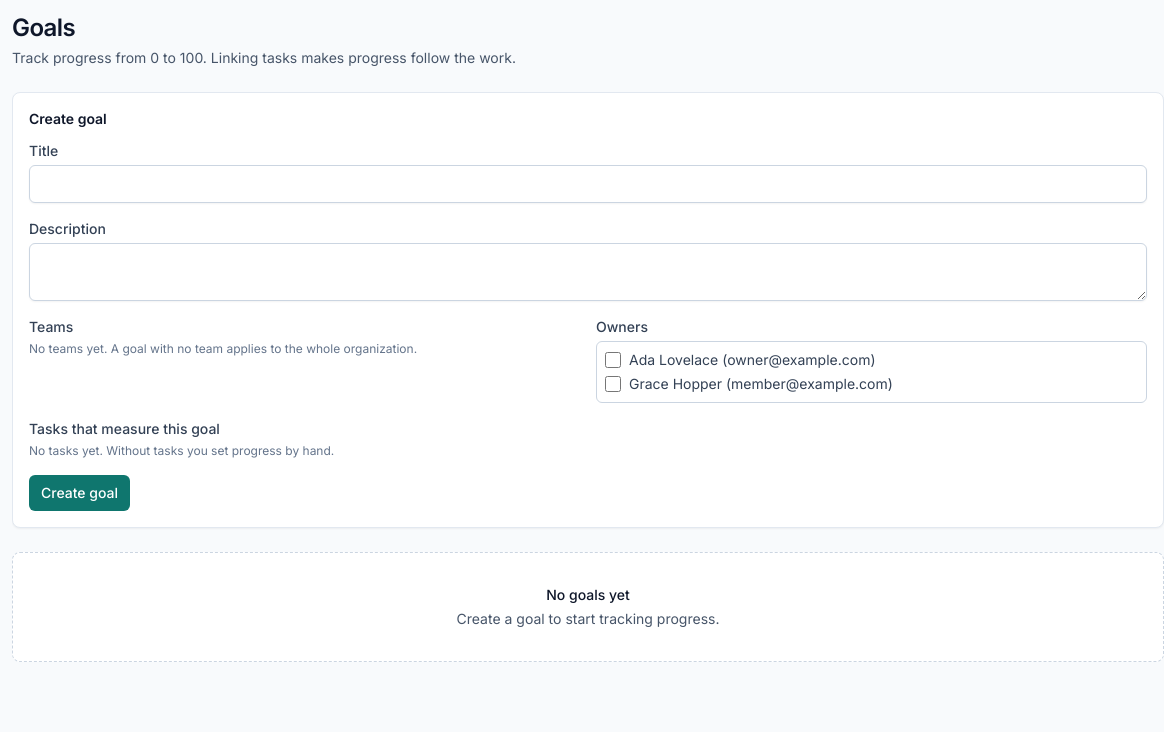
Test: GoalsPage › shows an empty state and requires a title
Check: the text "No goals yet" is shown, box [546,586,630,603]
Step 1. Click the button "Create goal" → coordinates (80, 493), box [29,475,130,511]
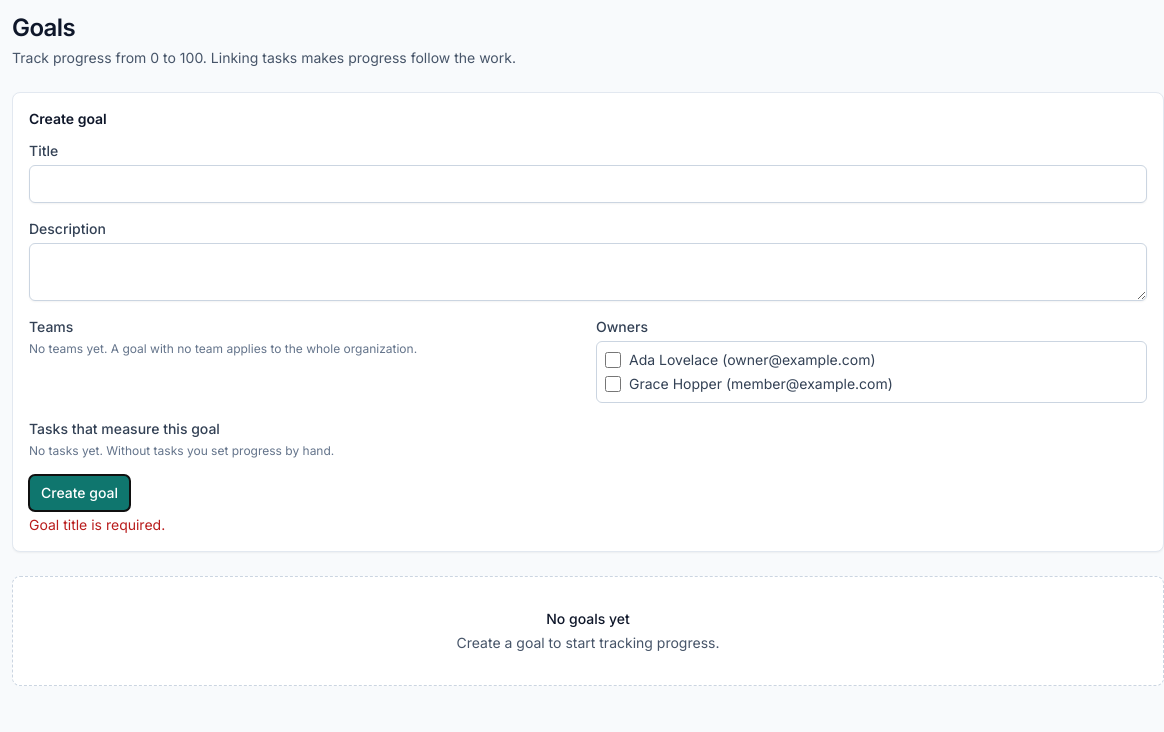
Check: the text "Goal title is required." is shown, box [29,516,165,533]
